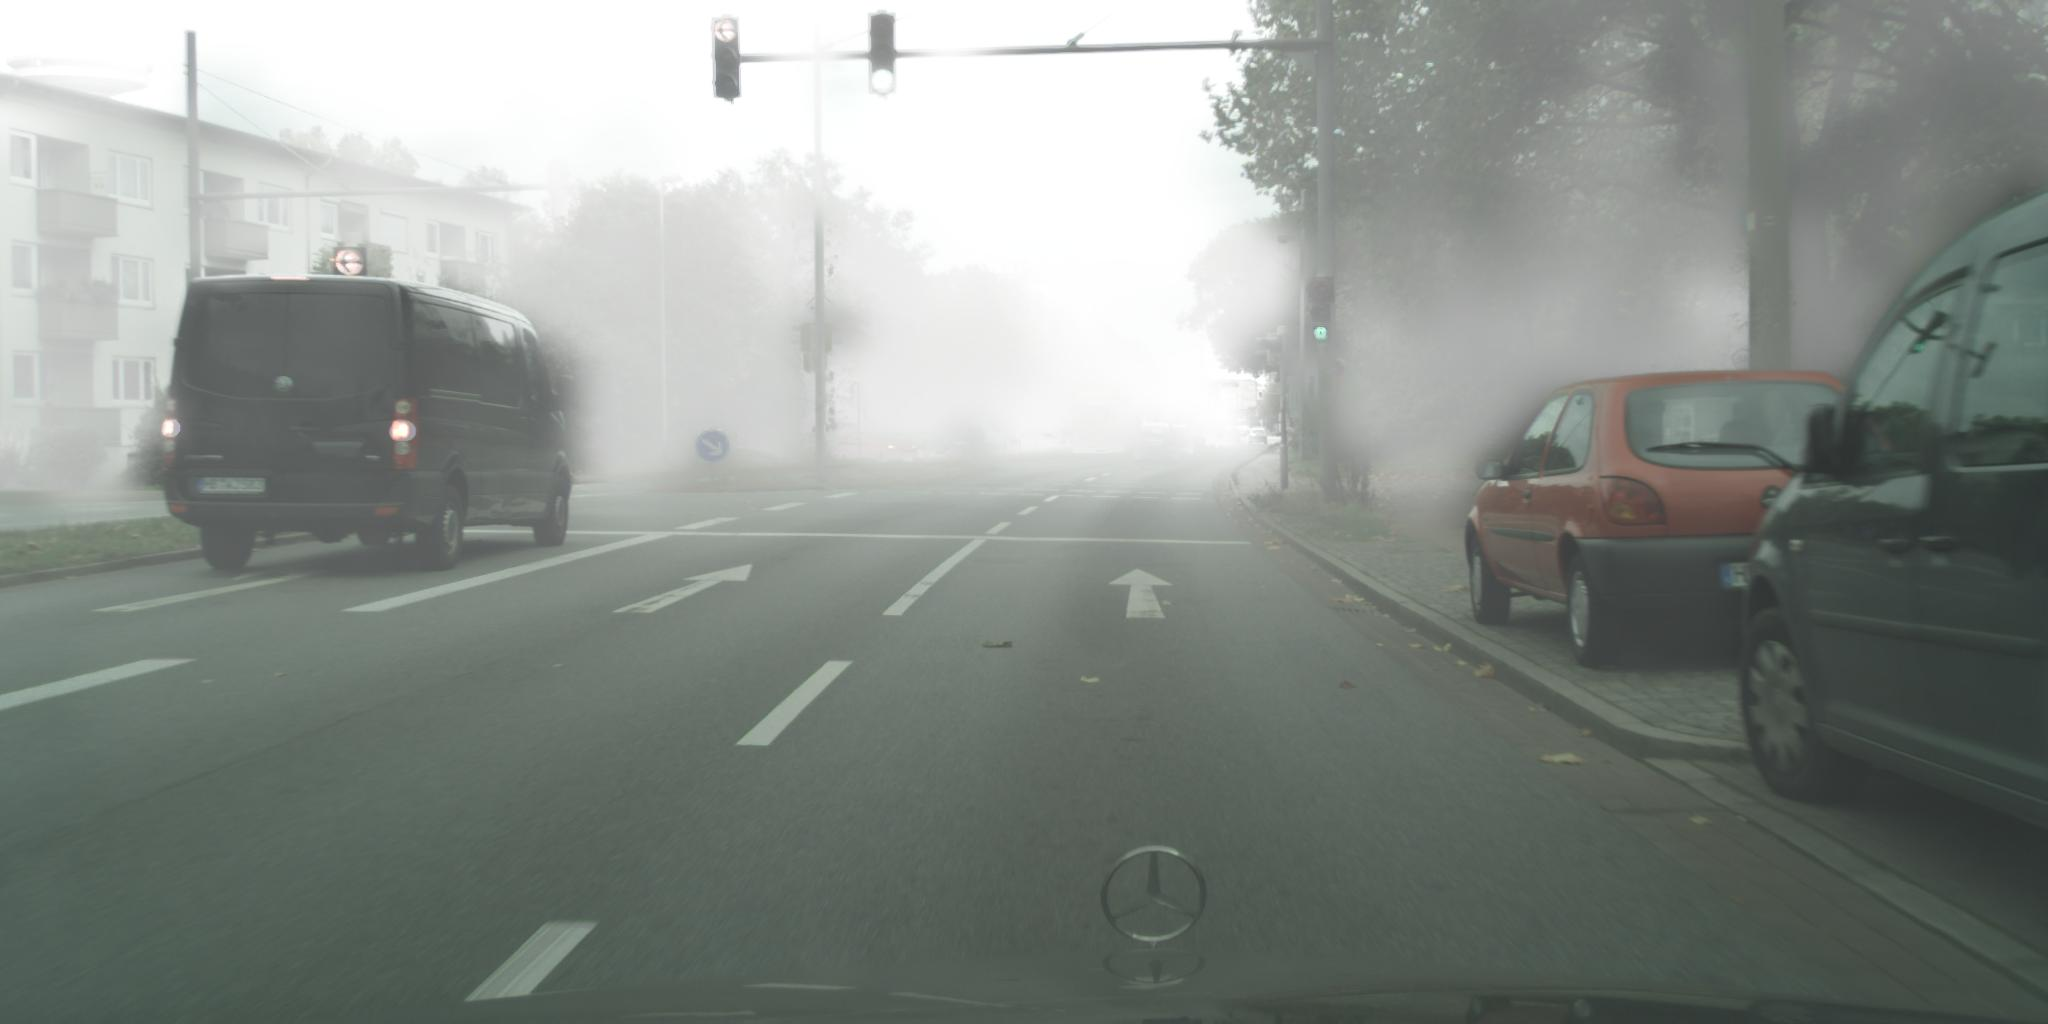car: (1737, 184, 2048, 836), (159, 274, 576, 575), (1464, 370, 1848, 671), (837, 432, 918, 462), (1134, 423, 1181, 464), (1169, 424, 1194, 455), (1216, 426, 1241, 451), (1249, 428, 1268, 445), (1206, 427, 1223, 445), (1236, 426, 1250, 439)
truck: (1071, 391, 1132, 455)
